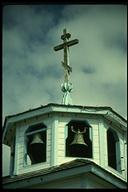church: (6, 24, 126, 188)
cloud: (82, 7, 122, 100)
sky: (8, 8, 50, 91)
